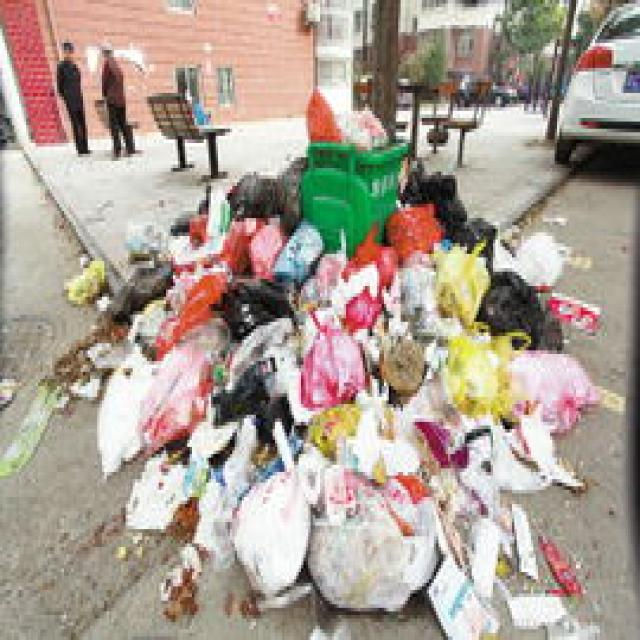garbage: (0, 150, 597, 636)
overflow: (299, 86, 405, 254)
